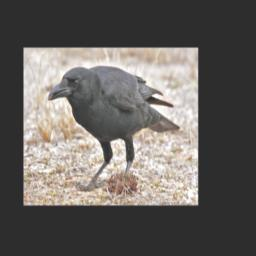Crow: (47, 66, 181, 192)
